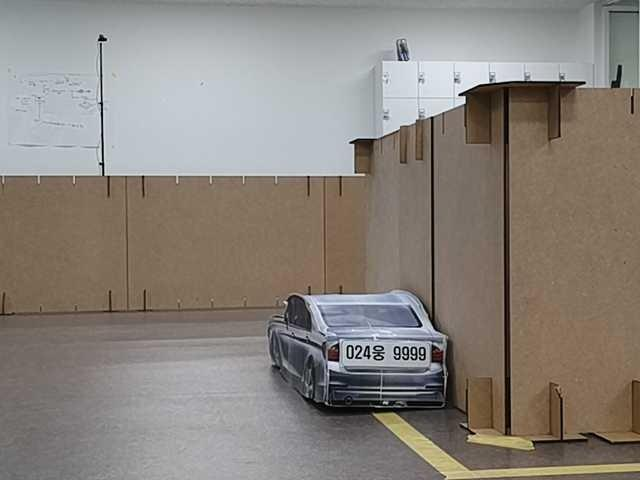car: (264, 285, 451, 415)
id: (339, 334, 431, 373)
